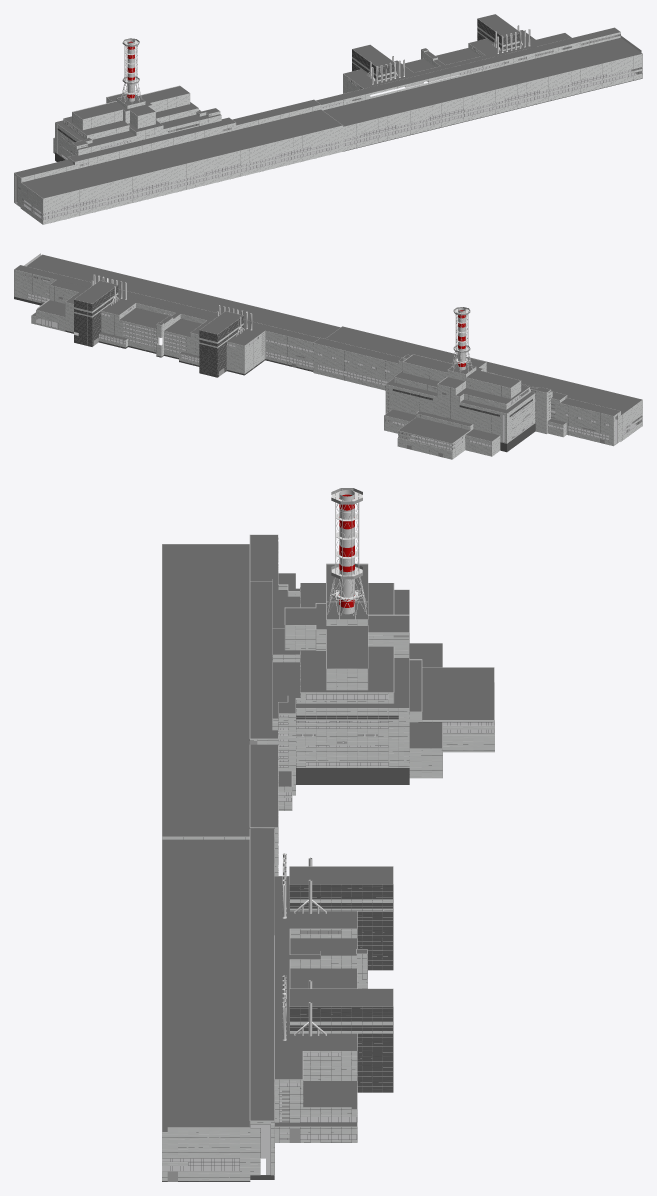
Rendered from chnpp_simplified.glb.
The picture shows the model from 3 angles, top to bottom: view 1: azimuth 30°, elevation 25°; view 2: azimuth 150°, elevation 25°; view 3: azimuth 270°, elevation 25°; orthographic projection. The views are drawn at different scales.
Visible parts, largest first — view 1: Object_4, Object_5; view 2: Object_4, Object_5; view 3: Object_4, Object_5.
Part boxes in pixels (<box>): Object_4: <box>14,14,642,224</box>; Object_5: <box>15,34,642,219</box>; Object_4: <box>14,253,642,459</box>; Object_5: <box>23,274,642,449</box>; Object_4: <box>162,488,494,1181</box>; Object_5: <box>162,694,493,1174</box>.
Size of the model in its own units: 805 by 150 by 194.
Materials: 2 (2 with a texture image).
